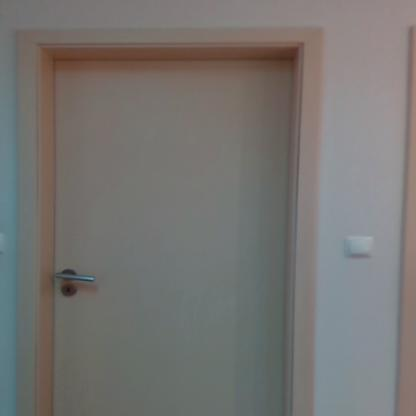door: (53, 60, 288, 416)
lever: (56, 269, 96, 286)
